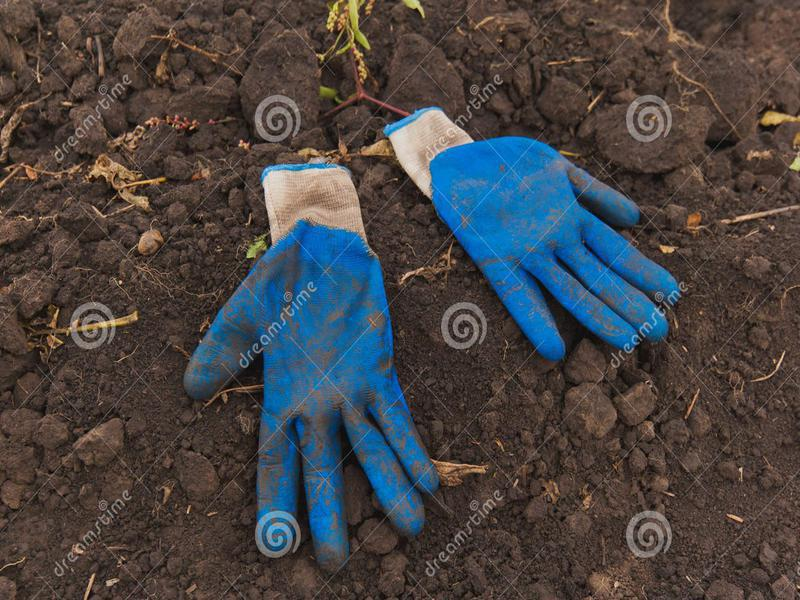gloves: (171, 145, 444, 578), (380, 97, 689, 367)
